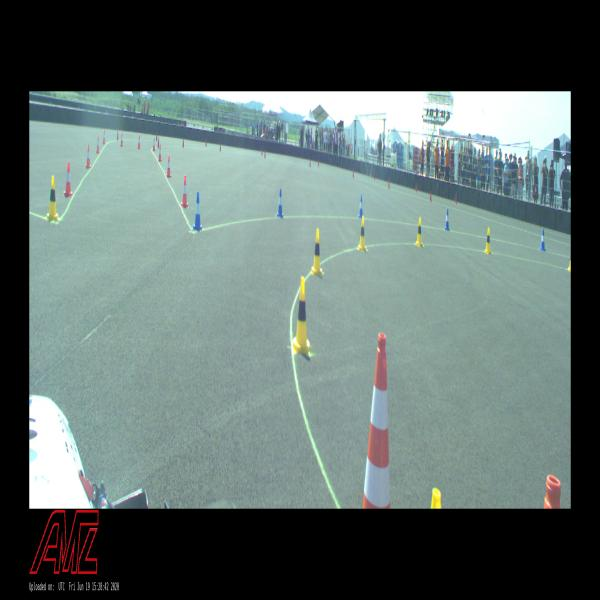blue_cone: (193, 192, 202, 230), (277, 189, 283, 217), (358, 196, 363, 218), (540, 230, 545, 250), (445, 209, 449, 230)
large_orange_cone: (362, 334, 390, 509)
orange_cone: (64, 162, 72, 195), (181, 176, 188, 207), (85, 146, 91, 168), (167, 156, 172, 177), (96, 136, 100, 152), (158, 145, 162, 161), (102, 131, 106, 144), (120, 133, 124, 146), (153, 138, 155, 150), (138, 136, 140, 148)
unknown_cone: (415, 182, 417, 193), (117, 130, 119, 140), (455, 194, 457, 204), (388, 179, 390, 188), (156, 133, 158, 141), (264, 150, 266, 158), (352, 170, 354, 178), (430, 190, 431, 202), (158, 137, 159, 148), (183, 138, 184, 148), (220, 143, 221, 151), (374, 172, 375, 180), (310, 160, 311, 167), (318, 159, 319, 166), (205, 140, 206, 146), (262, 148, 262, 155)
yellow_cone: (292, 277, 310, 355), (311, 229, 322, 274), (47, 176, 58, 219), (358, 216, 366, 250), (416, 218, 422, 246), (485, 228, 491, 253)
